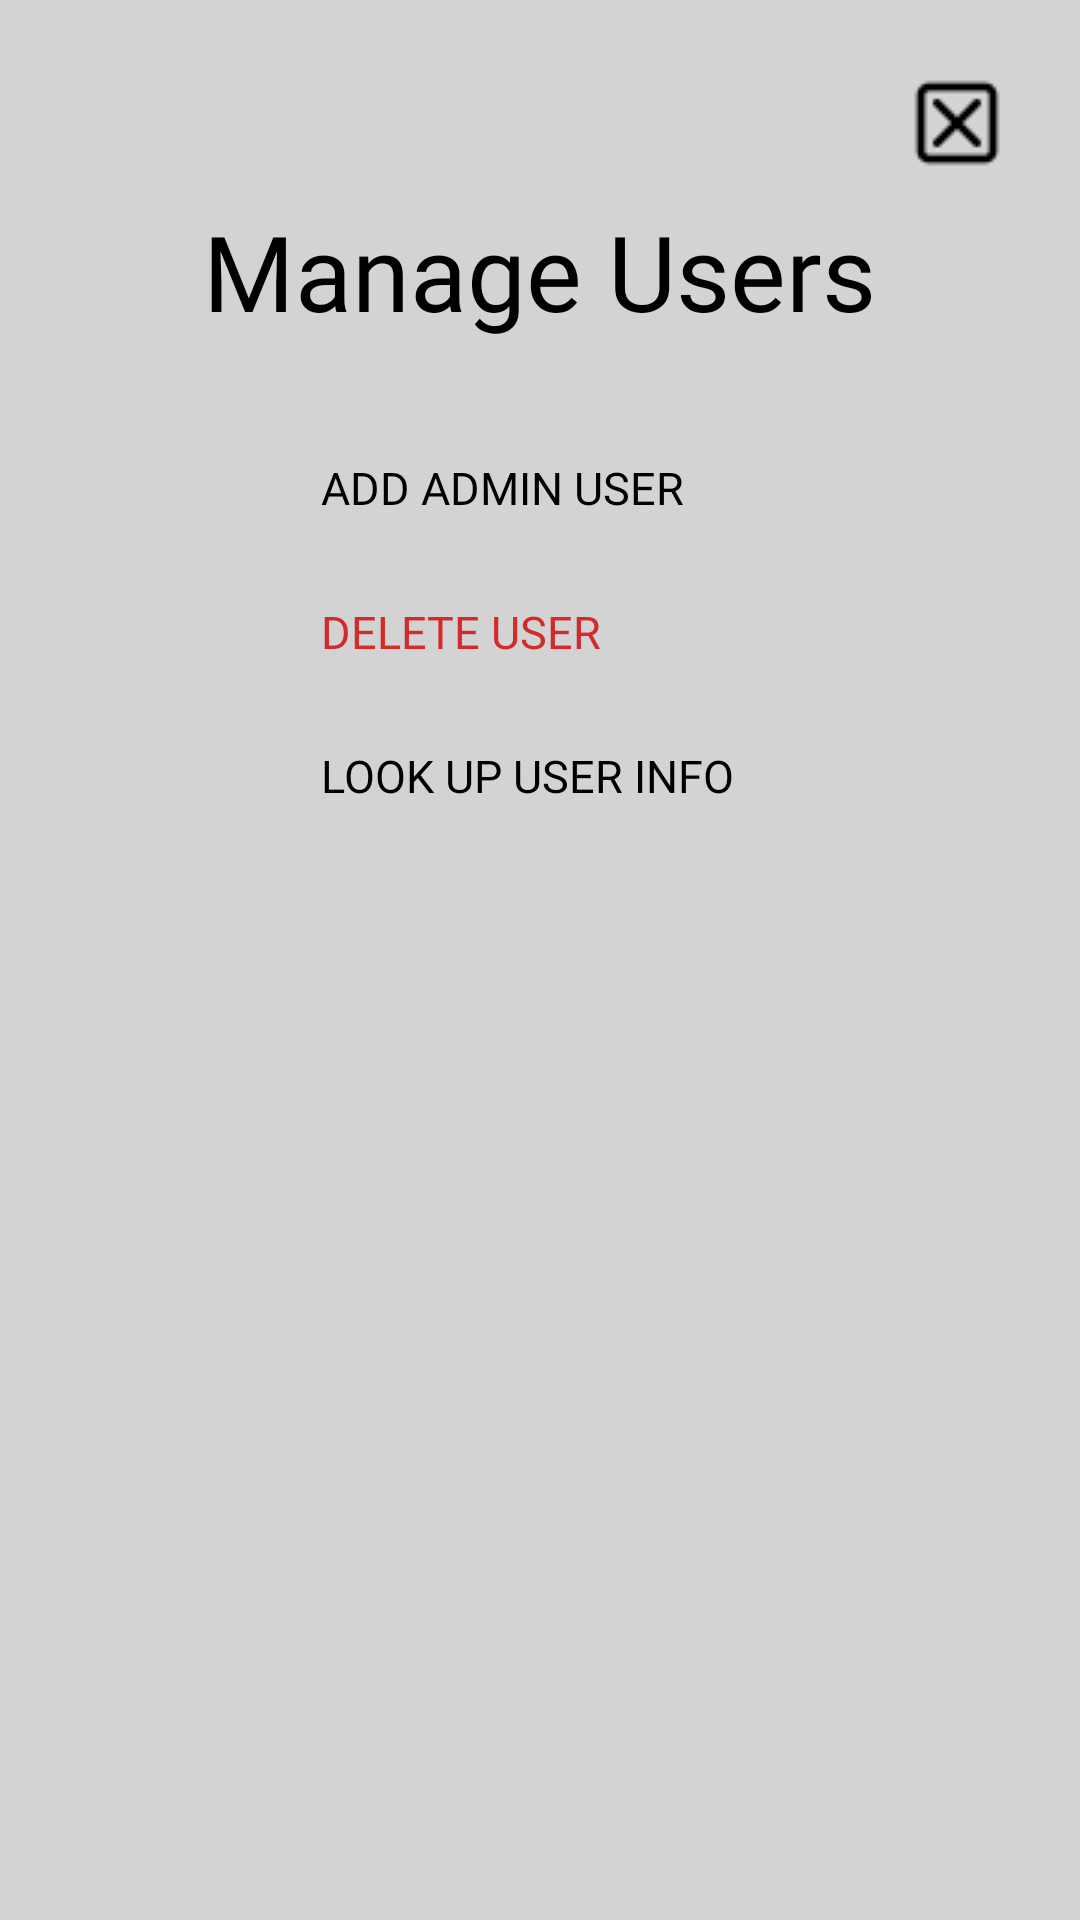

Icon bounding boxes for this 1080 x 1920 phone screenshot, format (x1, y1, x2, y2):
close window: (915, 81, 999, 165)
